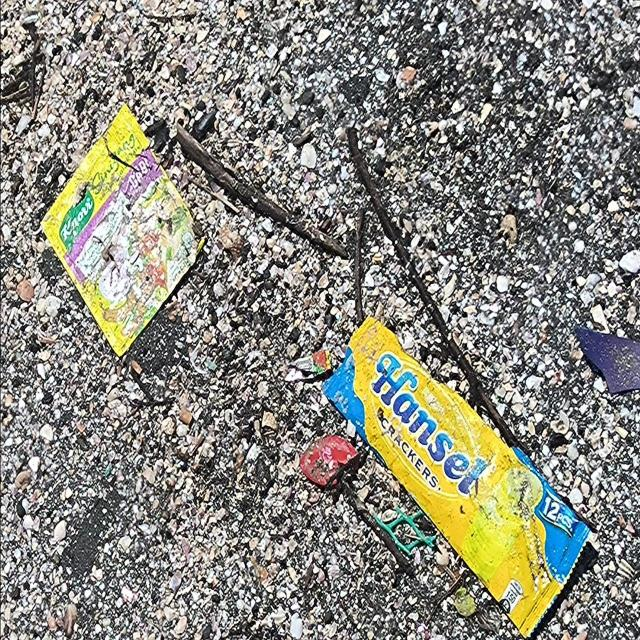plastic_waste: (321, 314, 595, 640), (39, 101, 209, 359)
